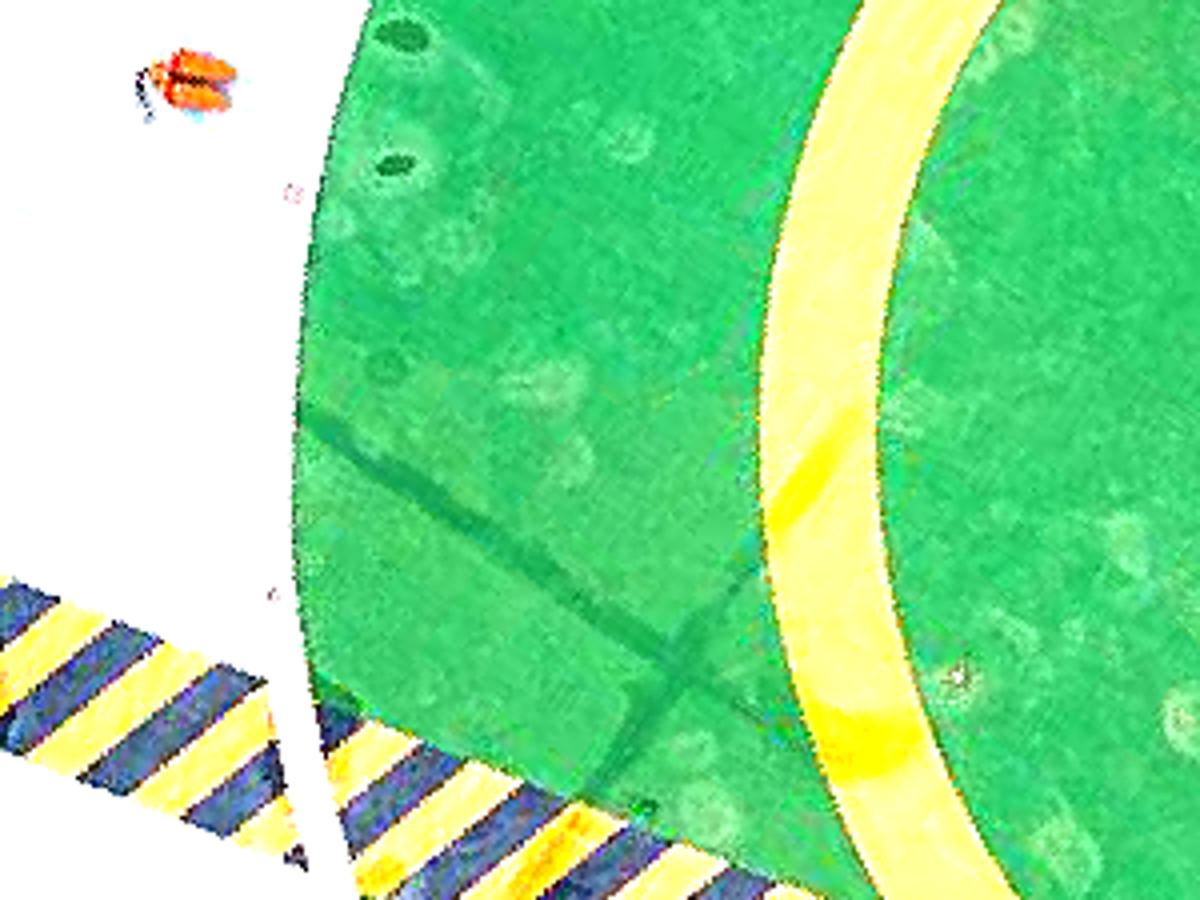Apron: (721, 1, 1200, 900)
